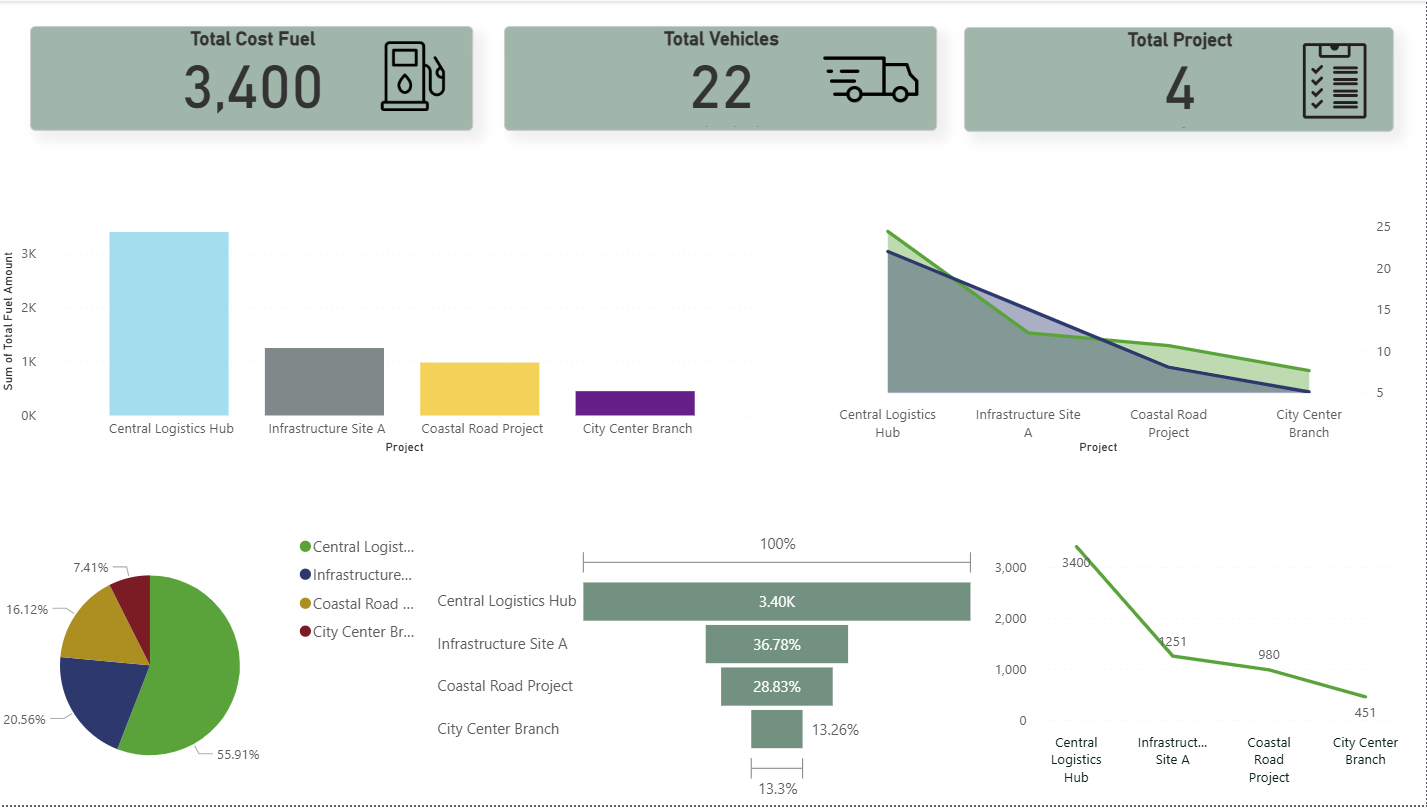

This screenshot's page, from the dashboard's own definition file:
{"tool":"powerbi","page":{"name":"Page 1","canvas":[1280,720],"ordinal":0},"visuals":[{"type":"columnChart","fields":{"Category":["Fuel Details.Project"],"Y":["Sum(Fuel Details.Total Fuel Amount)"],"Series":["Fuel Details.Total Vehicles"]},"box":[0,187.8,691,222.1],"z":0},{"type":"pieChart","fields":{"Category":["Fuel Details.Project"],"Y":["Sum(Fuel Details.Total Fuel Amount)"],"Series":["Fuel Details.Total Vehicles"]},"box":[0,470.3,390.7,249.5],"z":1000},{"type":"funnel","fields":{"Category":["Fuel Details.Project"],"Y":["Sum(Fuel Details.Total Fuel Amount)"]},"box":[390.7,470.3,492.2,249.5],"z":2000},{"type":"areaChart","fields":{"Category":["Fuel Details.Project"],"Y":["Sum(Fuel Details.Total Fuel Amount)"],"Y2":["Sum(Fuel Details.Total Vehicles)"]},"box":[691,187.8,580,222.1],"z":3000},{"type":"lineChart","fields":{"Category":["Fuel Details.Project"],"Y":["Sum(Fuel Details.Total Fuel Amount)"]},"box":[883,470.3,388,249.5],"z":4000},{"type":"card","title":"Total Cost Fuel","fields":{"Values":["Max(Fuel Details.Total Fuel Amount)"]},"box":[30.6,22,397.3,94.1],"z":5000},{"type":"card","title":" Total Vehicles","fields":{"Values":["Max(Fuel Details.Total Vehicles)"]},"box":[454.7,22,387.5,94.1],"z":6000},{"type":"card","title":" Total Project","fields":{"Values":["CountNonNull(Fuel Details.Project)"]},"box":[866.7,23.2,385.1,94.1],"z":7000},{"type":"image","box":[319,22,108.8,90.5],"z":8000},{"type":"image","box":[724.9,19.6,117.4,103.9],"z":9000},{"type":"image","box":[1146.2,24.7,105.6,93.2],"z":10000}]}

Visuals, with their boxes in screenshot pixels (x1, y1, x2, y2), scaled from the page's 1280x720 canvas onto the 1427x808 screenshot:
columnChart - Fuel Details.Project x Sum(Fuel Details.Total Fuel Amount): bbox=[0, 211, 770, 460]
pieChart - Fuel Details.Project x Sum(Fuel Details.Total Fuel Amount): bbox=[0, 528, 436, 807]
funnel - Fuel Details.Project x Sum(Fuel Details.Total Fuel Amount): bbox=[436, 528, 984, 807]
areaChart - Fuel Details.Project x Sum(Fuel Details.Total Fuel Amount): bbox=[770, 211, 1417, 460]
lineChart - Fuel Details.Project x Sum(Fuel Details.Total Fuel Amount): bbox=[984, 528, 1417, 807]
"Total Cost Fuel" card: bbox=[34, 25, 477, 130]
" Total Vehicles" card: bbox=[507, 25, 939, 130]
" Total Project" card: bbox=[966, 26, 1396, 132]
image: bbox=[356, 25, 477, 126]
image: bbox=[808, 22, 939, 139]
image: bbox=[1278, 28, 1396, 132]
